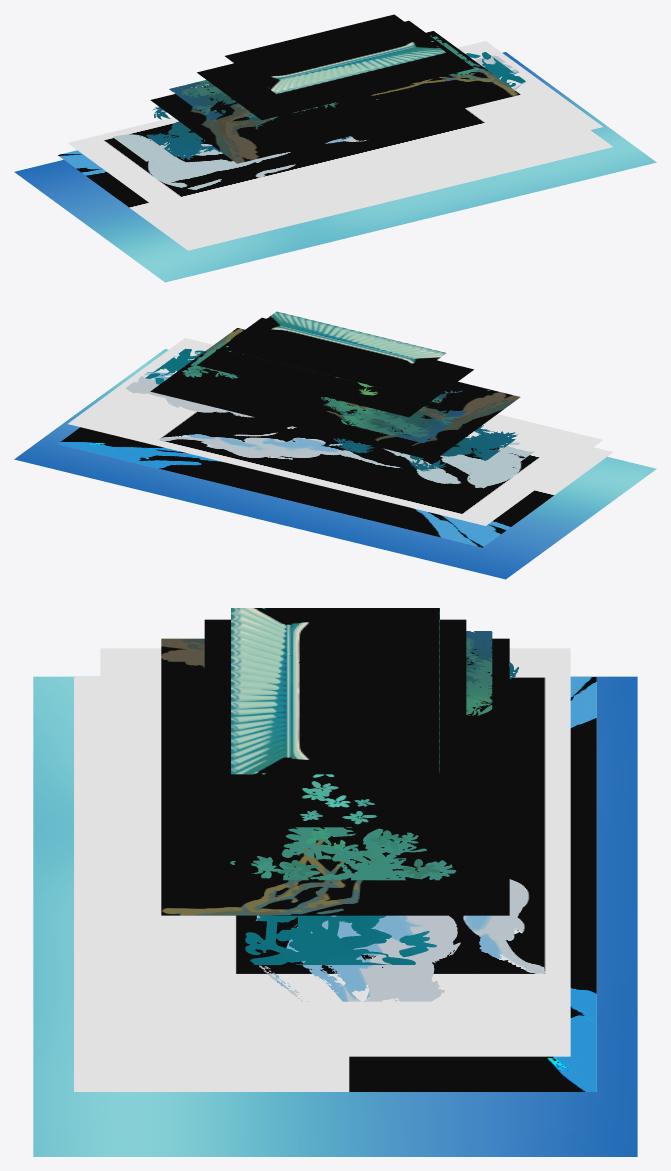
3 renders of one model, top to bottom at view 1: azimuth 30°, elevation 25°; view 2: azimuth 150°, elevation 25°; view 3: azimuth 270°, elevation 25°, orthographic. The views are drawn at different scales.
Visible parts, largest first — view 1: Background; view 2: Background; view 3: Background.
Boxes of the visible parts, left/top/right/bottom form: Background: left=14, top=14, right=656, bottom=282; Background: left=14, top=311, right=656, bottom=579; Background: left=33, top=608, right=637, bottom=1156.
Bounding box in the file's own units: 7664 × 1680 × 4079.
9 materials, 9 textured.
